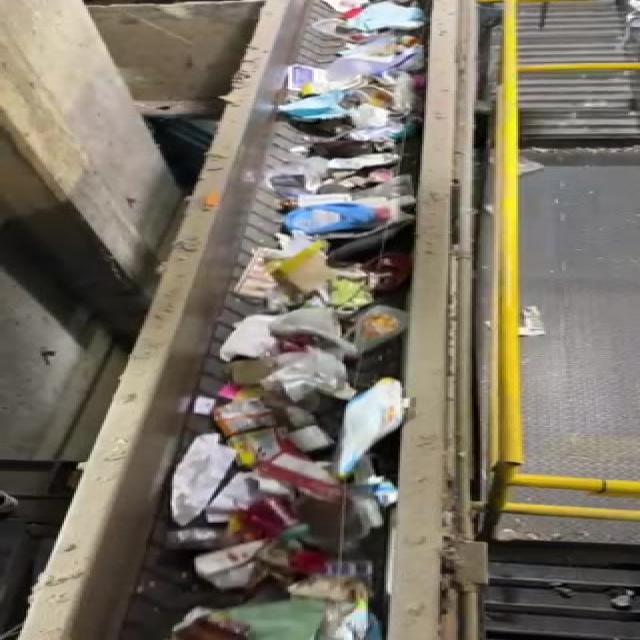hdpe: (333, 374, 412, 488)
paper: (160, 537, 298, 590), (164, 426, 232, 522)
pp: (197, 397, 292, 462)
